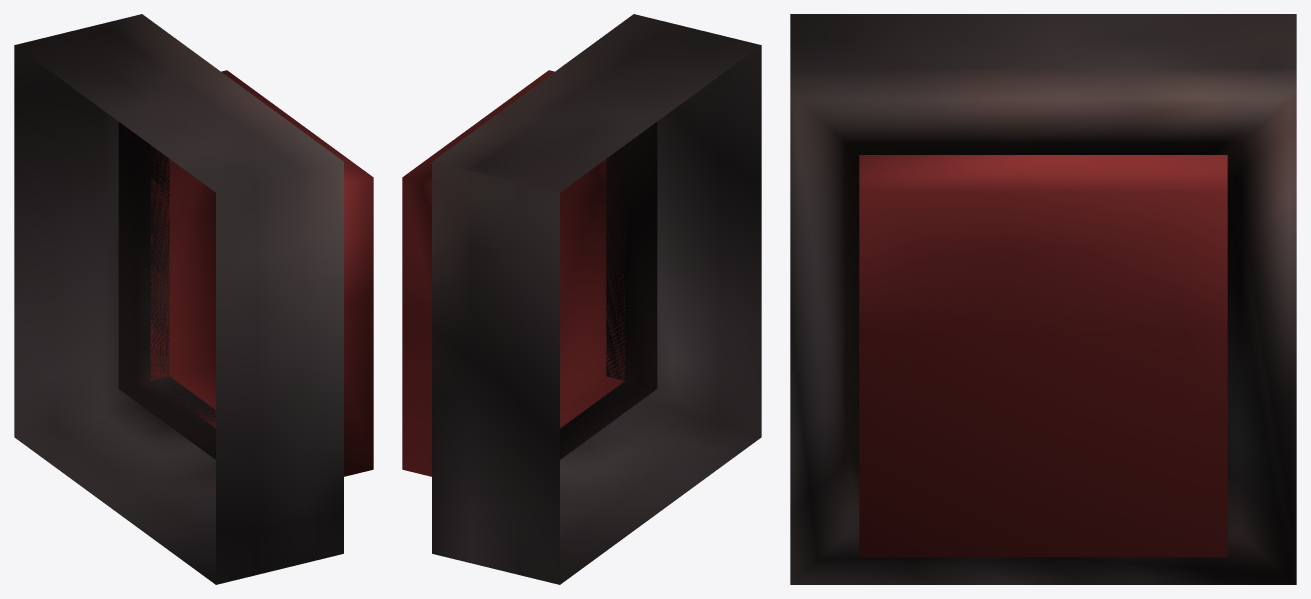
File: ButtonSmall.fbx
3 views of the same model, side by side, from view 1: azimuth 30°, elevation 25°; view 2: azimuth 150°, elevation 25°; view 3: azimuth 270°, elevation 25° (orthographic). The views are drawn at different scales.
Visible parts, largest first — view 1: SmallButtonBase, SmallButtonPress; view 2: SmallButtonBase, SmallButtonPress; view 3: SmallButtonPress, SmallButtonBase.
Part boxes in pixels (bbox=[...]): SmallButtonBase: bbox=[14, 14, 343, 584]; SmallButtonPress: bbox=[150, 70, 373, 476]; SmallButtonBase: bbox=[432, 14, 761, 584]; SmallButtonPress: bbox=[402, 70, 625, 476]; SmallButtonPress: bbox=[859, 155, 1227, 557]; SmallButtonBase: bbox=[790, 14, 1296, 584].
Bounding box in the file's own units: 44.85 × 90.79 × 84.62.
